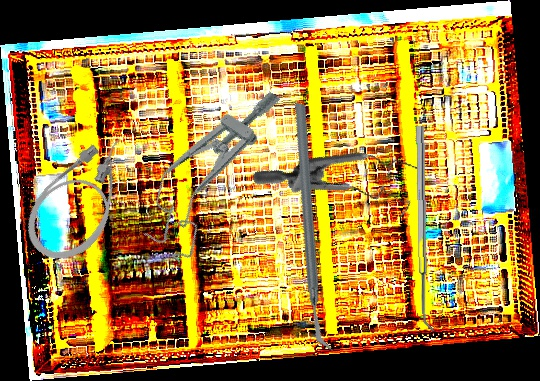Cannula: (11, 123, 156, 275)
Chopper: (220, 101, 407, 352)
Spatula Surgical: (416, 125, 436, 332)
Speculum: (127, 67, 293, 267), (250, 101, 439, 271)
